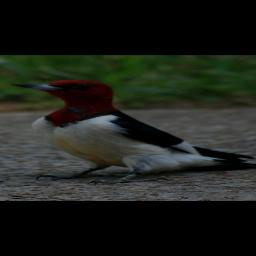Woodpecker: (2, 79, 256, 184)
